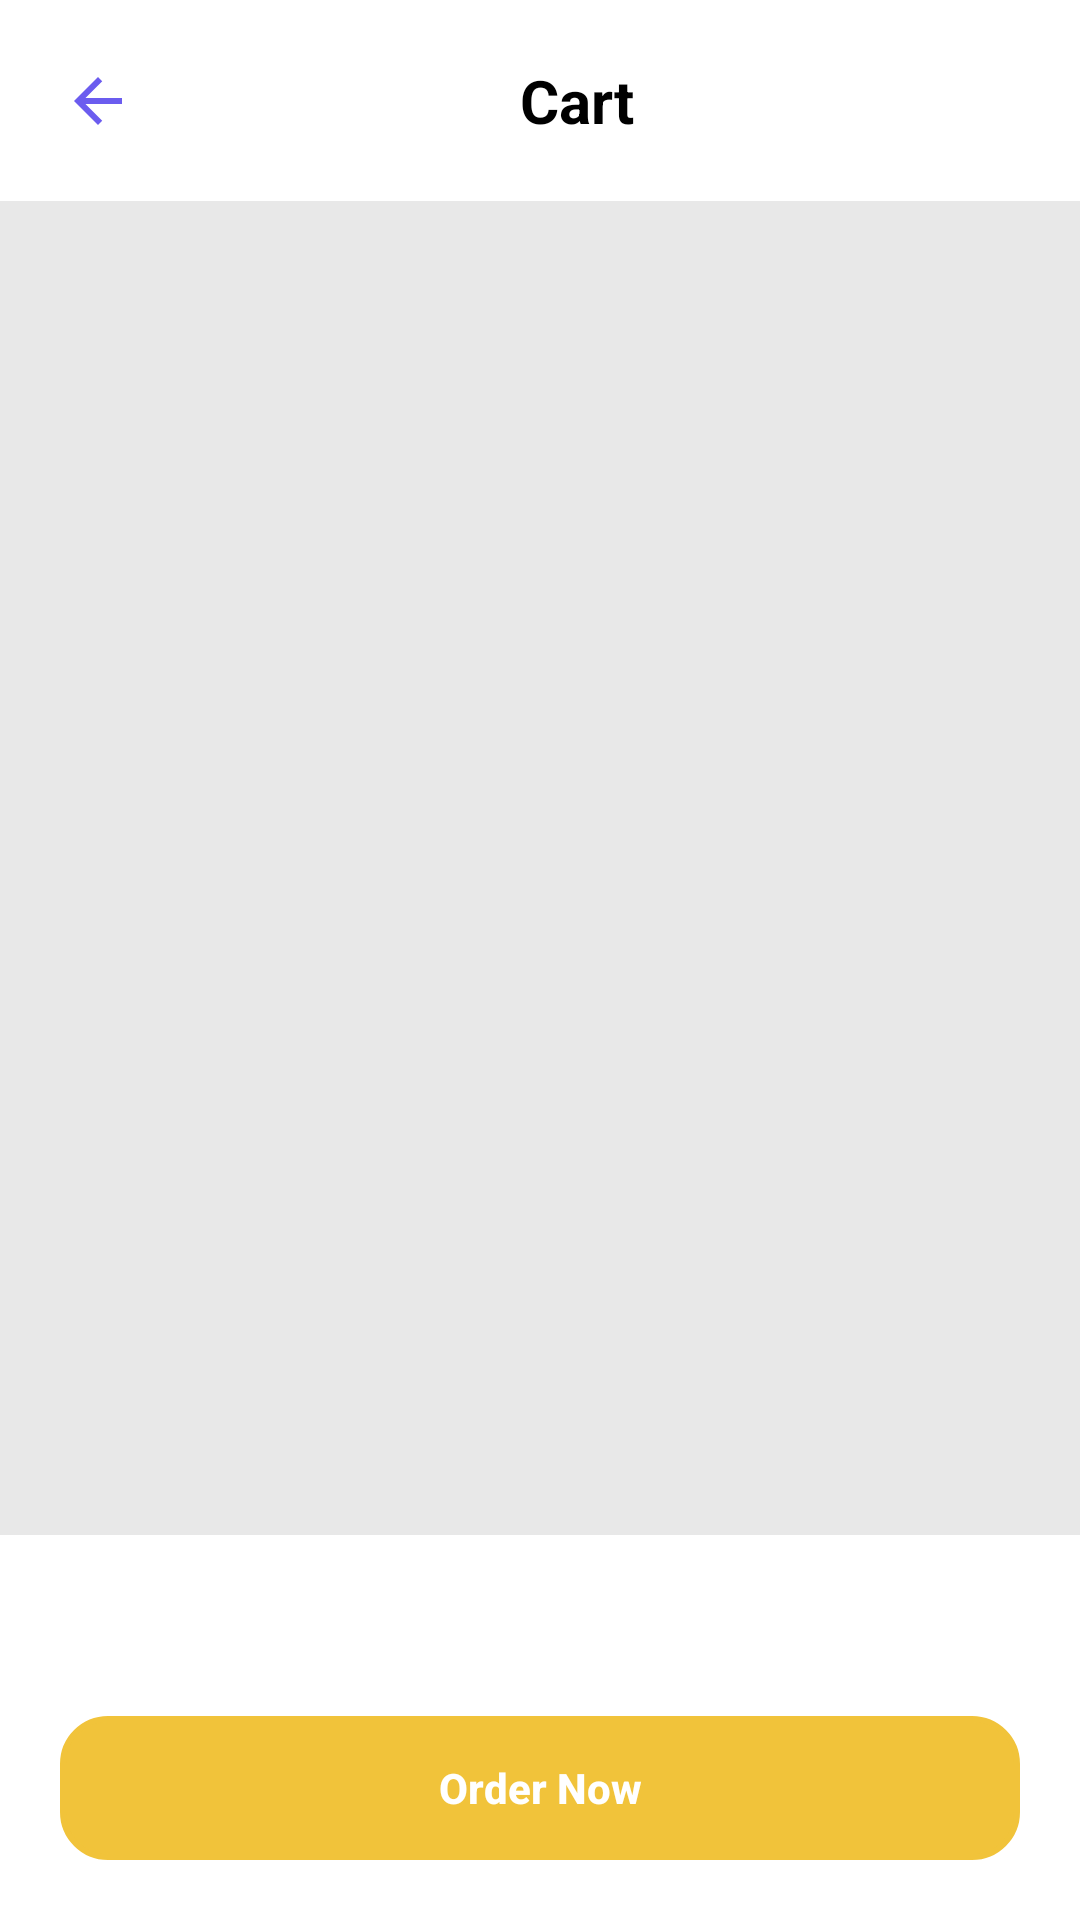

Point at icon controls on the screen. Image size 1080px×1920px, points as (x,y).
Button Back: (98,101)
